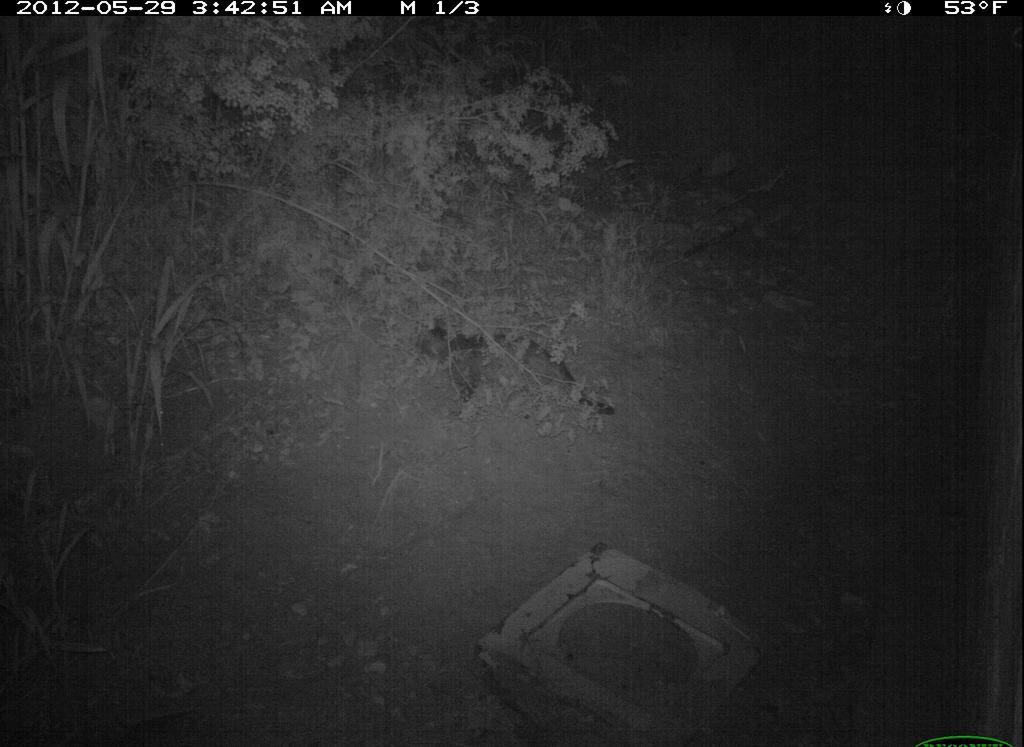cat: (411, 315, 617, 430)
